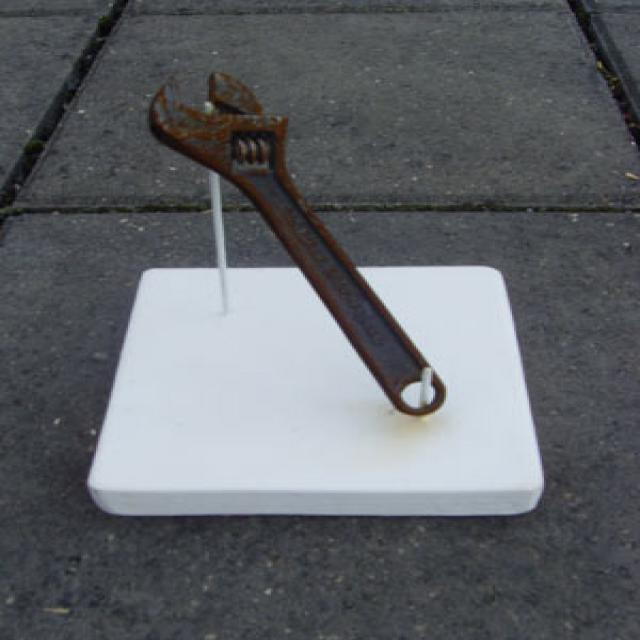wrench: (142, 59, 447, 421)
